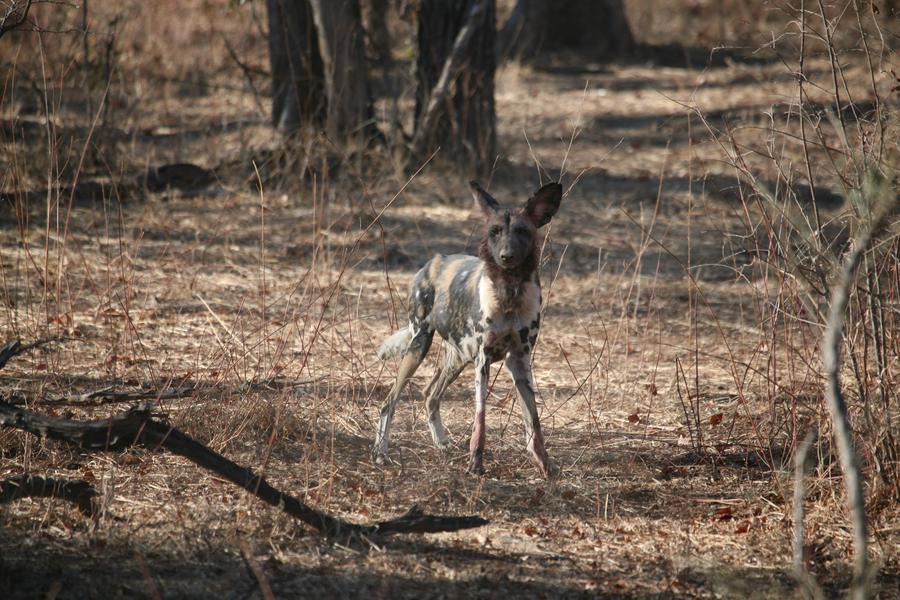wilddog: (366, 191, 563, 454)
